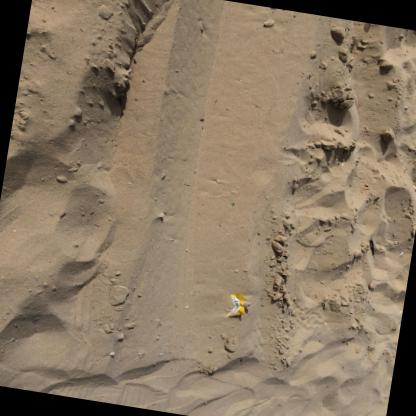Plastic: (225, 293, 251, 317), (369, 239, 373, 255)
